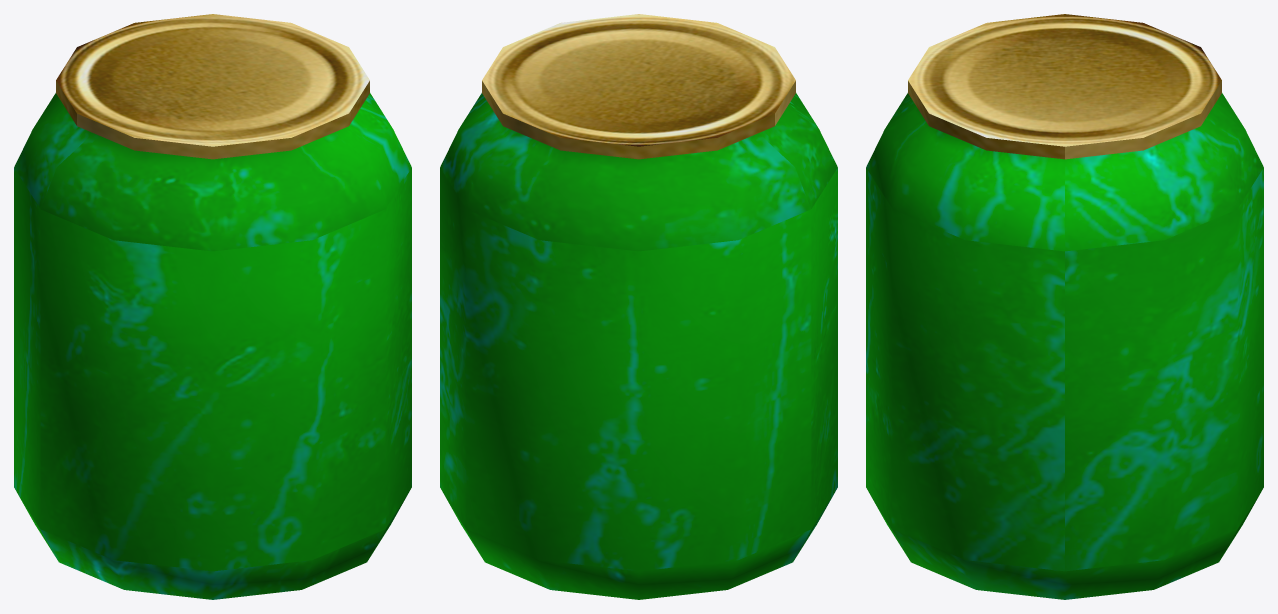
Rendered from Jar1.fbx.
The picture shows the model from 3 angles, left to right: view 1: azimuth 30°, elevation 25°; view 2: azimuth 150°, elevation 25°; view 3: azimuth 270°, elevation 25°; orthographic projection.
Visible parts, largest first — view 1: Cylinder.043, Cylinder.044; view 2: Cylinder.043, Cylinder.044; view 3: Cylinder.043, Cylinder.044.
Part boxes in pixels (box(x1,y1,x2,y2)): Cylinder.043: box(14, 93, 411, 599); Cylinder.044: box(56, 14, 369, 159); Cylinder.043: box(440, 93, 837, 599); Cylinder.044: box(482, 14, 795, 159); Cylinder.043: box(866, 93, 1263, 599); Cylinder.044: box(908, 14, 1221, 159).
Bounding box in the file's own units: 41.85 × 53.32 × 41.85.
Materials: 2 (2 with a texture image).
